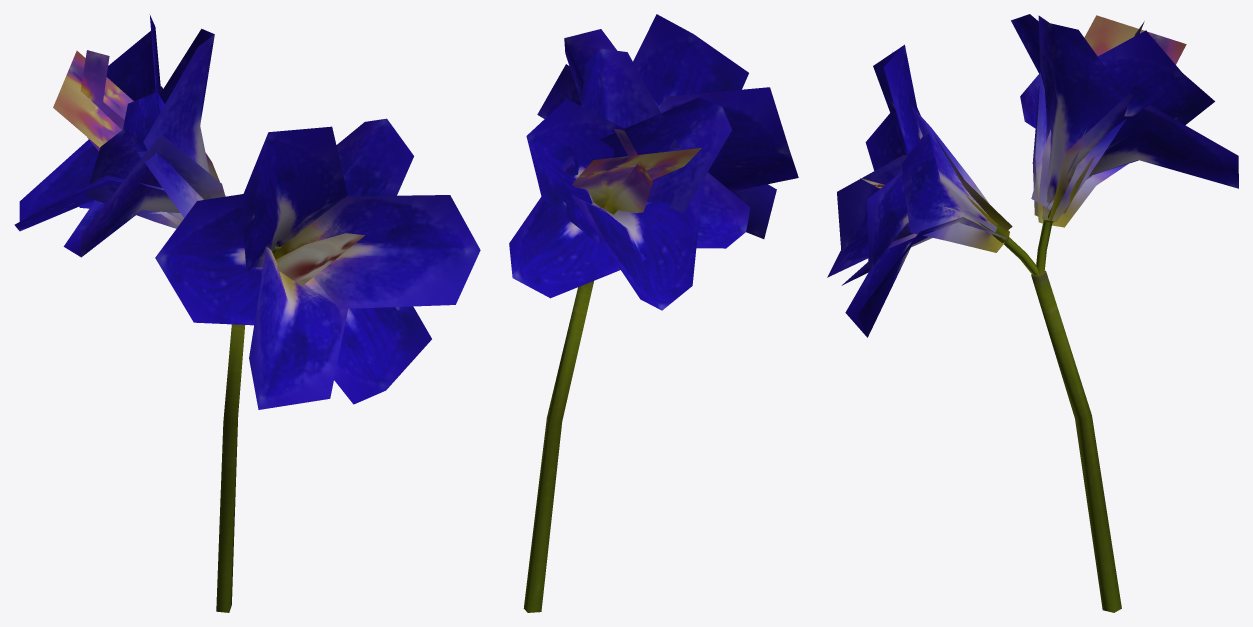
The model's file is Amaryllis_baby_short_deepblue.glb.
3 renders of one model, left to right at view 1: azimuth 30°, elevation 25°; view 2: azimuth 150°, elevation 25°; view 3: azimuth 270°, elevation 25°, orthographic. The views are drawn at different scales.
Visible parts, largest first — view 1: baby; view 2: baby; view 3: baby.
Part boxes in pixels (box(x1,y1,x2,y2)): baby: box(14, 14, 480, 612); baby: box(509, 14, 798, 612); baby: box(827, 14, 1238, 612).
Size of the model in its own units: 0.6819 by 1.24 by 0.8184.
1 material, 1 textured.
